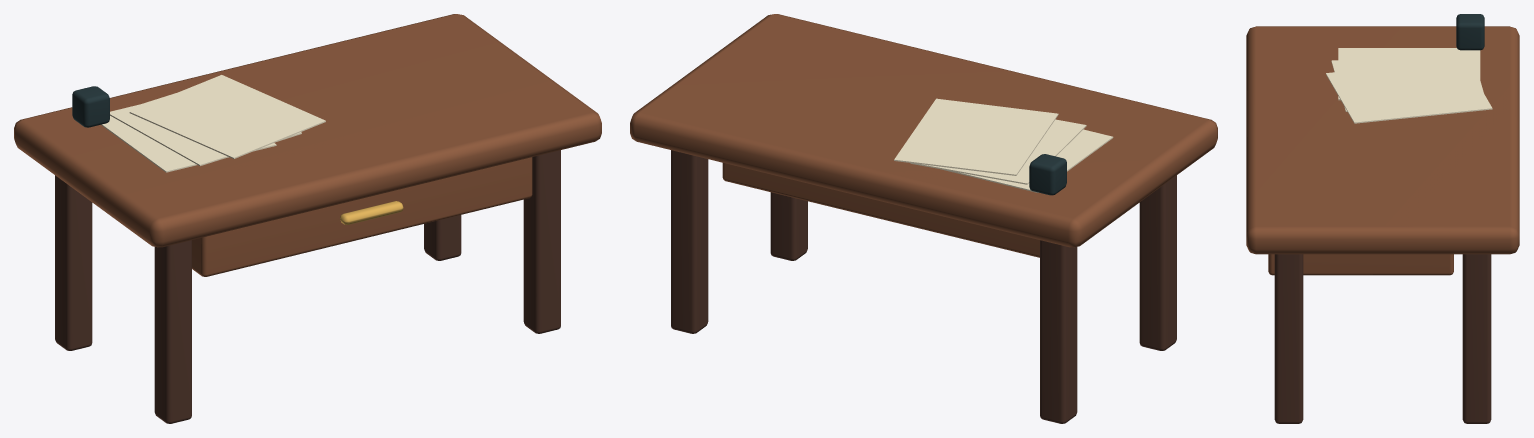
File: desk.glb
3 renders of one model, left to right at view 1: azimuth 30°, elevation 25°; view 2: azimuth 150°, elevation 25°; view 3: azimuth 270°, elevation 25°, orthographic. The views are drawn at different scales.
Parts seen in each view (by area): view 1: desk_top, desk_drawer, draft_2, desk_leg_-0.92_-0.43, desk_leg_0.92_-0.43, desk_leg_-0.92_0.43, draft_1, draft_0, desk_leg_0.92_0.43, inkwell, drawer_handle; view 2: desk_top, draft_2, desk_leg_-0.92_0.43, desk_leg_0.92_0.43, desk_leg_-0.92_-0.43, desk_drawer, desk_leg_0.92_-0.43, draft_1, draft_0, inkwell; view 3: desk_top, draft_2, desk_leg_0.92_0.43, desk_leg_0.92_-0.43, desk_drawer, draft_1, draft_0, inkwell.
Boxes of the visible parts, box(x1,y1,x2,y2) form: desk_top: box(14, 14, 601, 247); desk_drawer: box(192, 157, 532, 276); draft_2: box(129, 75, 325, 158); desk_leg_-0.92_-0.43: box(154, 240, 191, 423); desk_leg_0.92_-0.43: box(523, 150, 560, 333); desk_leg_-0.92_0.43: box(55, 175, 92, 350); draft_1: box(110, 93, 301, 165); draft_0: box(101, 104, 276, 172); desk_leg_0.92_0.43: box(424, 215, 461, 260); inkwell: box(72, 86, 109, 127); drawer_handle: box(340, 201, 403, 224); desk_top: box(630, 14, 1217, 247); draft_2: box(894, 98, 1058, 175); desk_leg_-0.92_0.43: box(1040, 240, 1077, 423); desk_leg_0.92_0.43: box(671, 150, 708, 333); desk_leg_-0.92_-0.43: box(1139, 175, 1176, 350); desk_drawer: box(722, 163, 1039, 257); desk_leg_0.92_-0.43: box(770, 192, 807, 260); draft_1: box(910, 119, 1086, 184); draft_0: box(941, 129, 1113, 192); inkwell: box(1029, 154, 1066, 195); desk_top: box(1246, 26, 1519, 254); draft_2: box(1326, 59, 1492, 123); desk_leg_0.92_0.43: box(1462, 254, 1491, 423); desk_leg_0.92_-0.43: box(1274, 254, 1303, 423); desk_drawer: box(1268, 254, 1453, 275); draft_1: box(1331, 53, 1483, 111); draft_0: box(1338, 48, 1480, 100); inkwell: box(1456, 14, 1484, 50).
Bounding box in the file's own units: 2.25 × 1.2 × 1.25.
